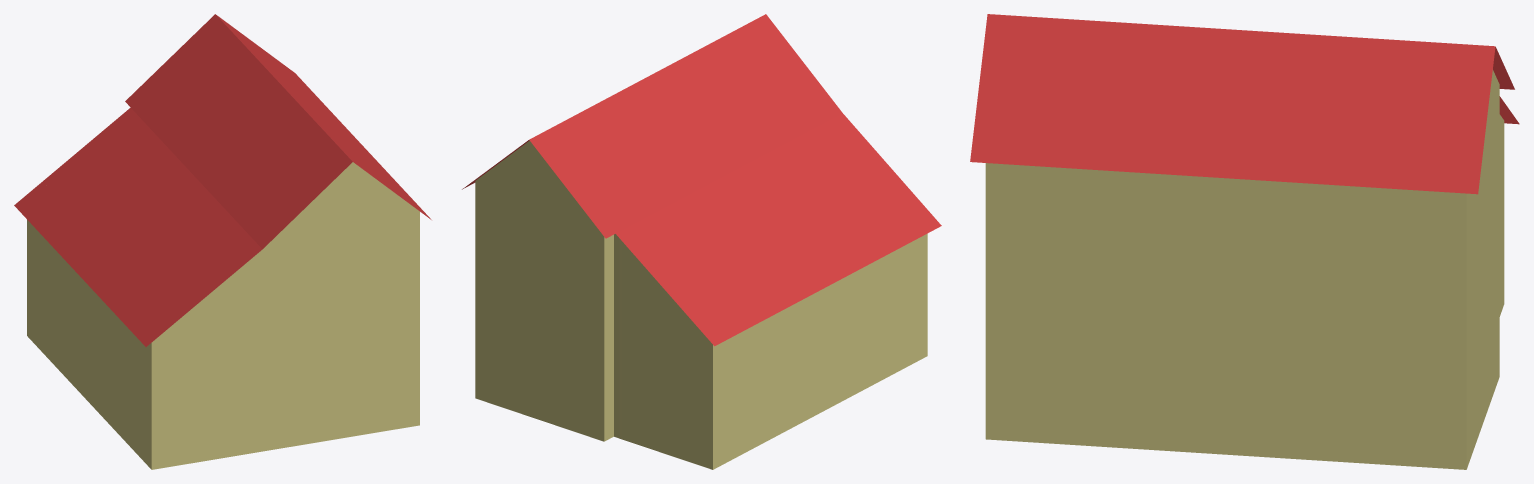
3 views of the same model, side by side, from view 1: azimuth 30°, elevation 25°; view 2: azimuth 150°, elevation 25°; view 3: azimuth 270°, elevation 25° (orthographic). The views are drawn at different scales.
Size of the model in its own units: 17.96 by 20.04 by 15.34.
